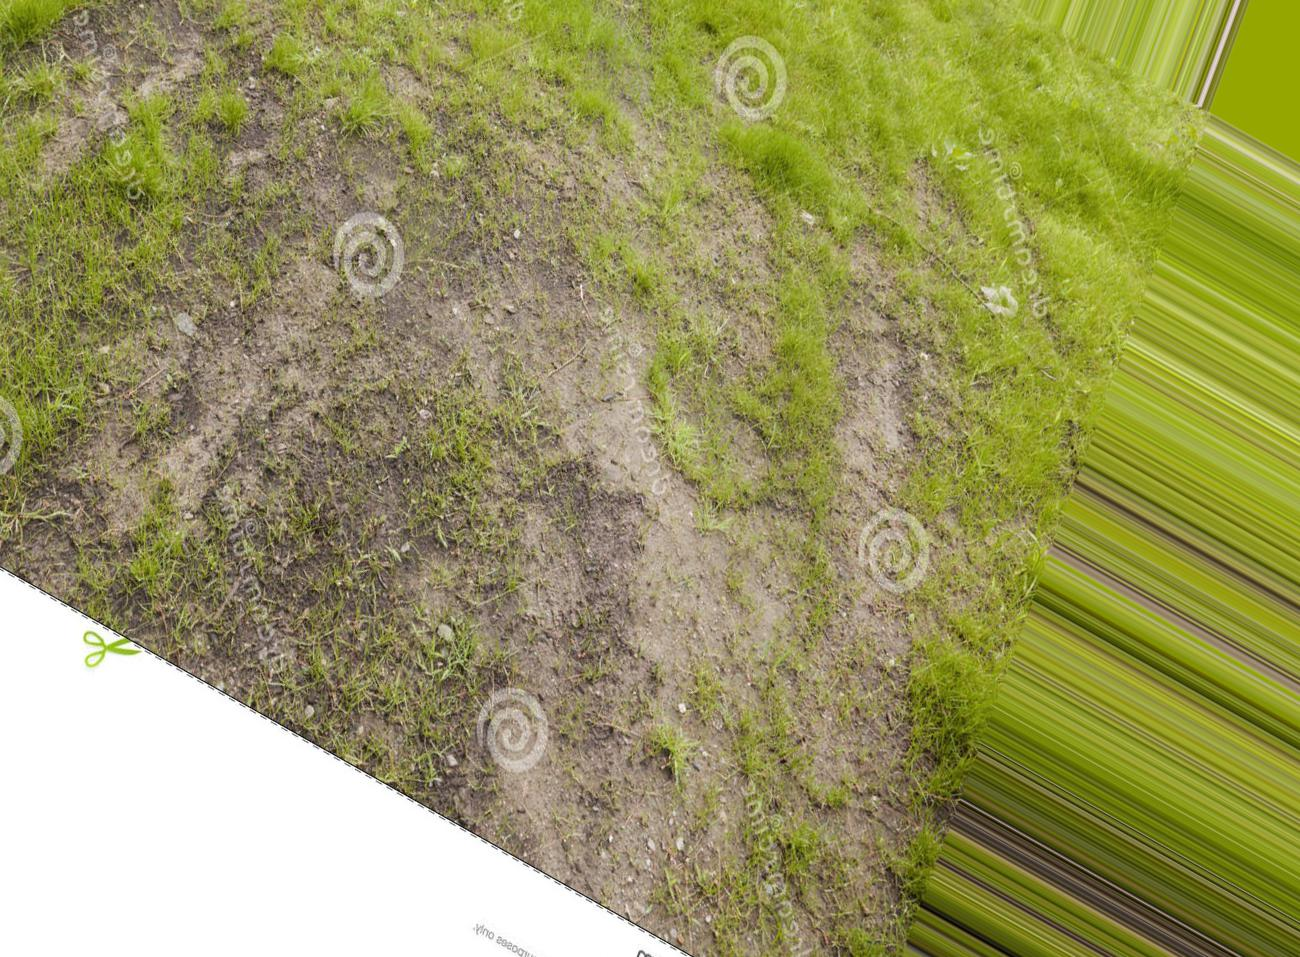patch: (115, 346, 834, 819), (306, 181, 722, 555), (67, 19, 326, 254), (852, 376, 937, 526)
